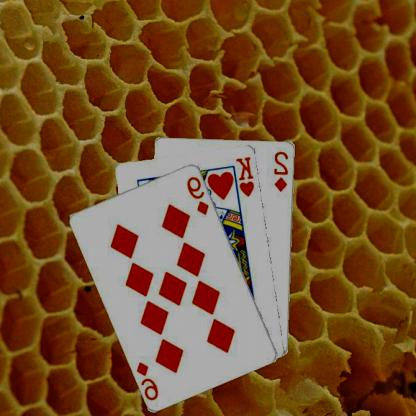2D: (274, 148, 292, 192)
9D: (135, 359, 162, 402), (186, 173, 212, 216)
KH: (235, 154, 258, 197)
